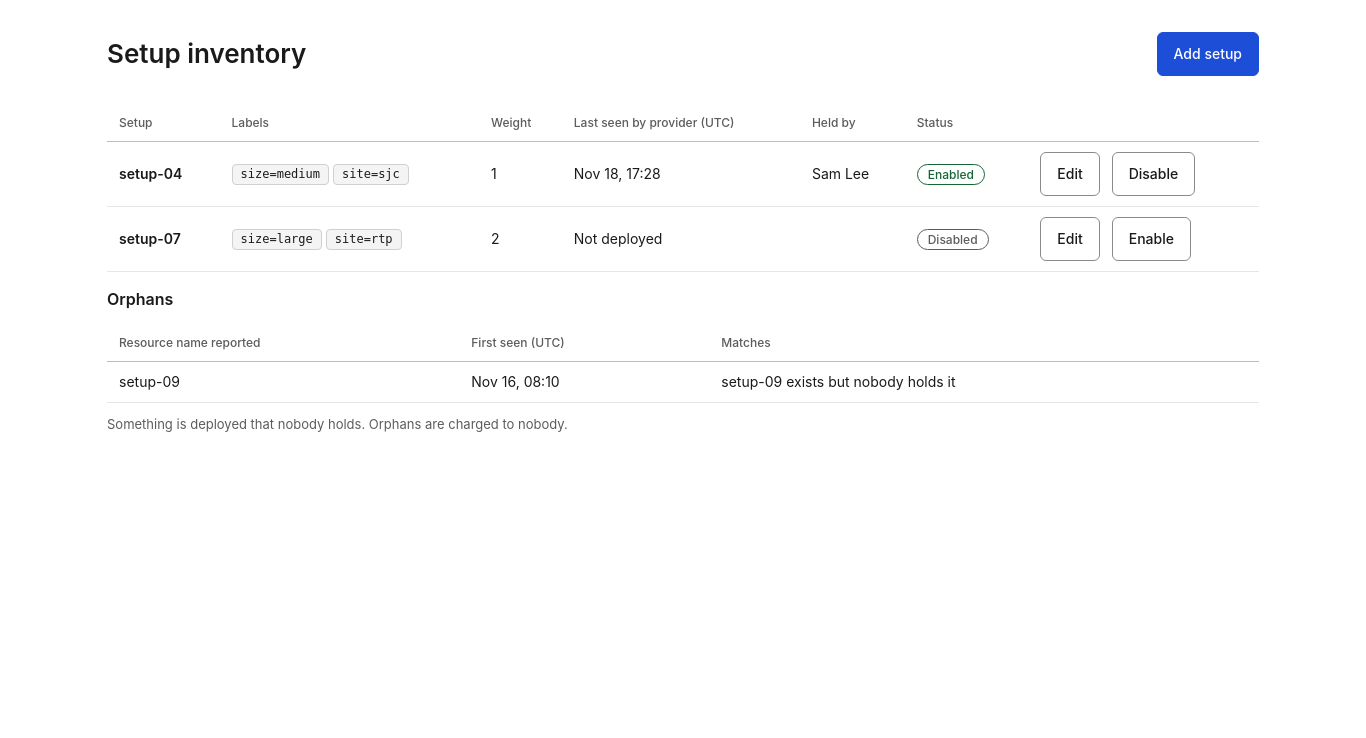
SET-5 disable, delete, force-release › shows the API message when renaming a held setup is refused
Click the button with aria-label "Edit setup-04".
click(1070, 174)  # box [1040, 152, 1100, 196]
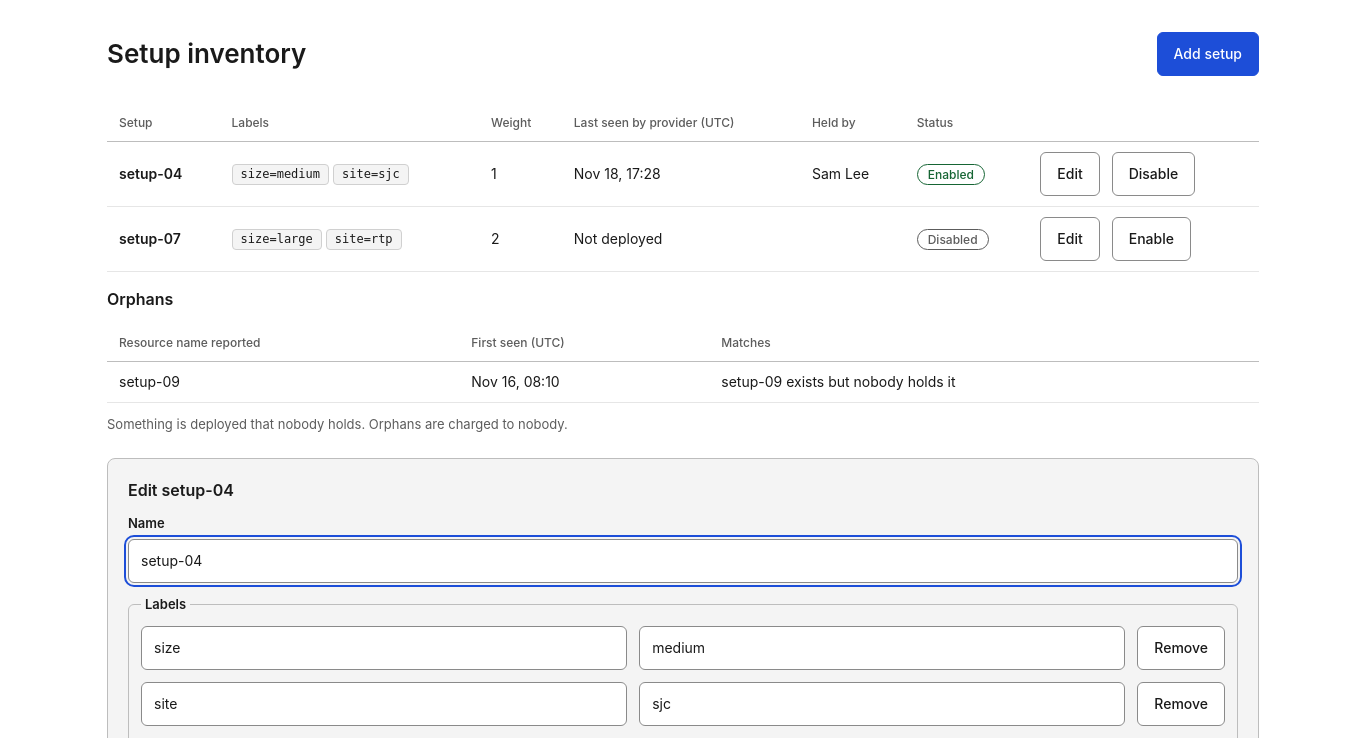
Replace the text in the field labelled "Name" with "setup-04b" at x=683, y=561, box [128, 539, 1238, 583]
(page scrolled)
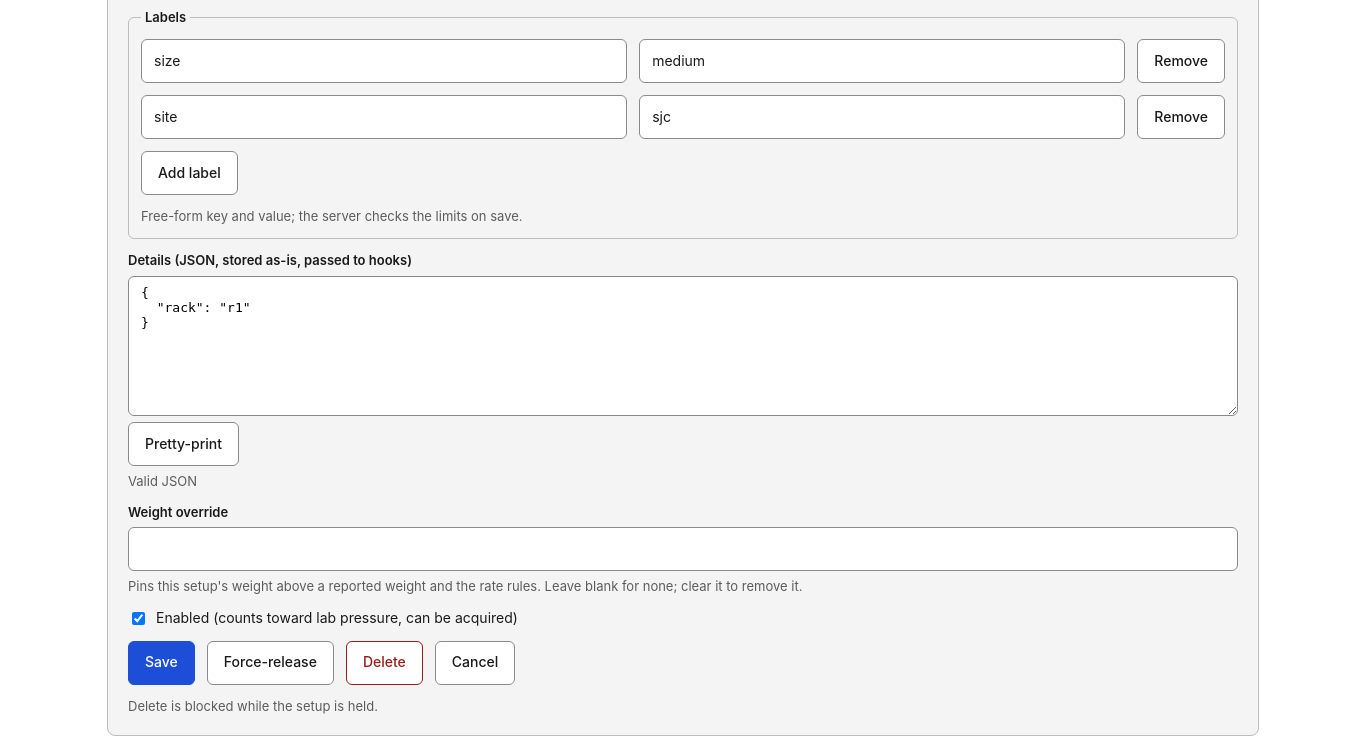
Click the button "Save".
click(161, 662)  # box [128, 640, 195, 684]
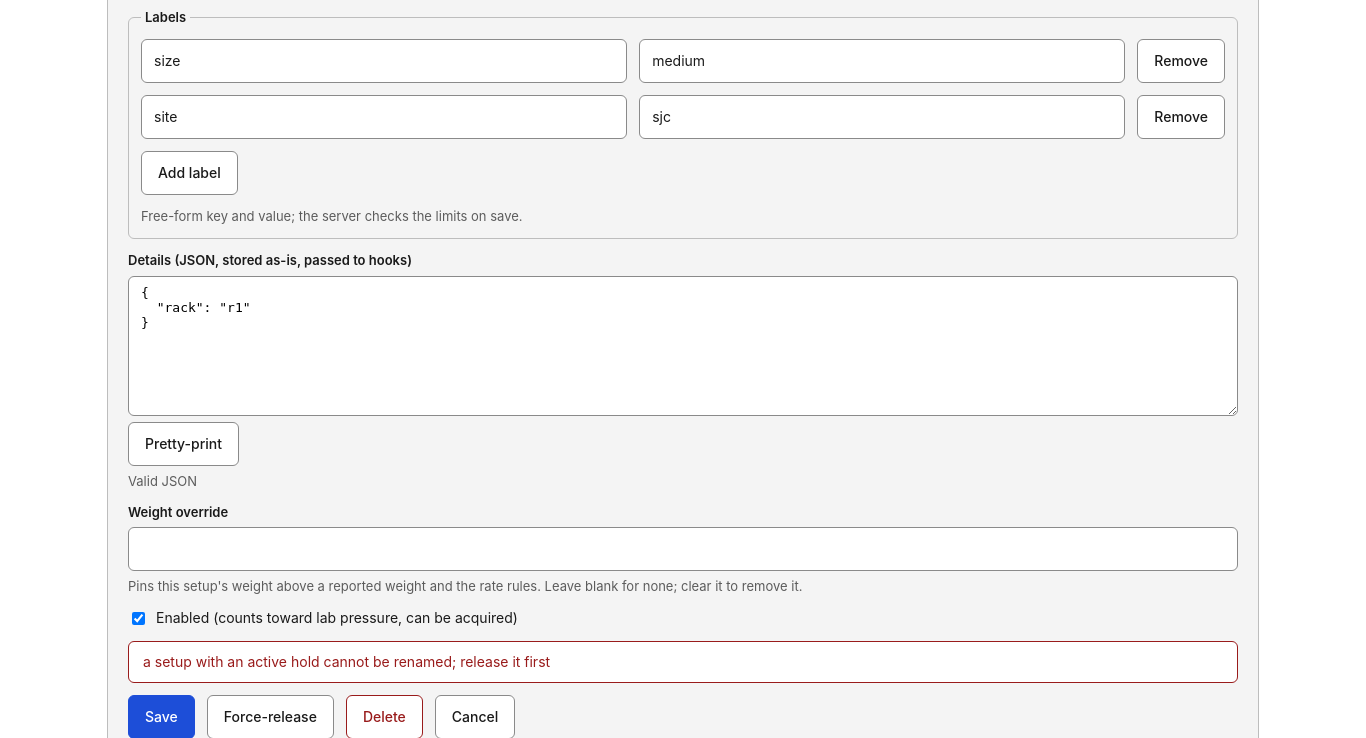
Result: the text "a setup with an active hold cannot be renamed; release it first" is shown at [128, 640, 1238, 683]
